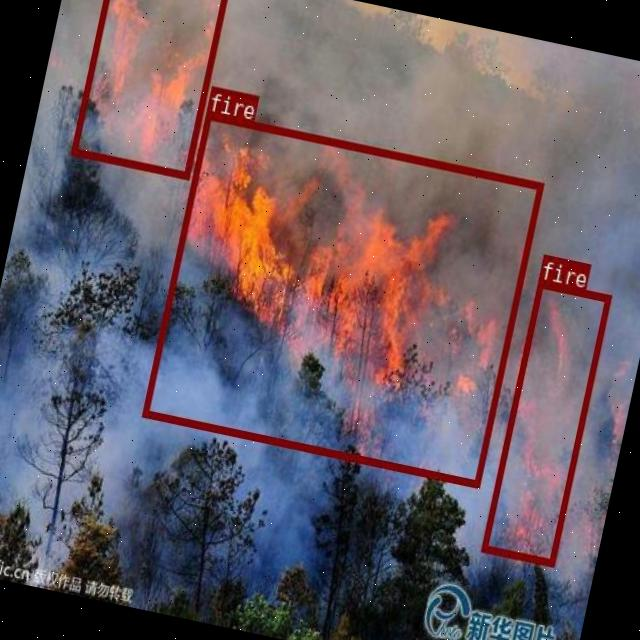fire: (142, 110, 542, 487), (480, 280, 610, 566), (70, 0, 227, 177)
